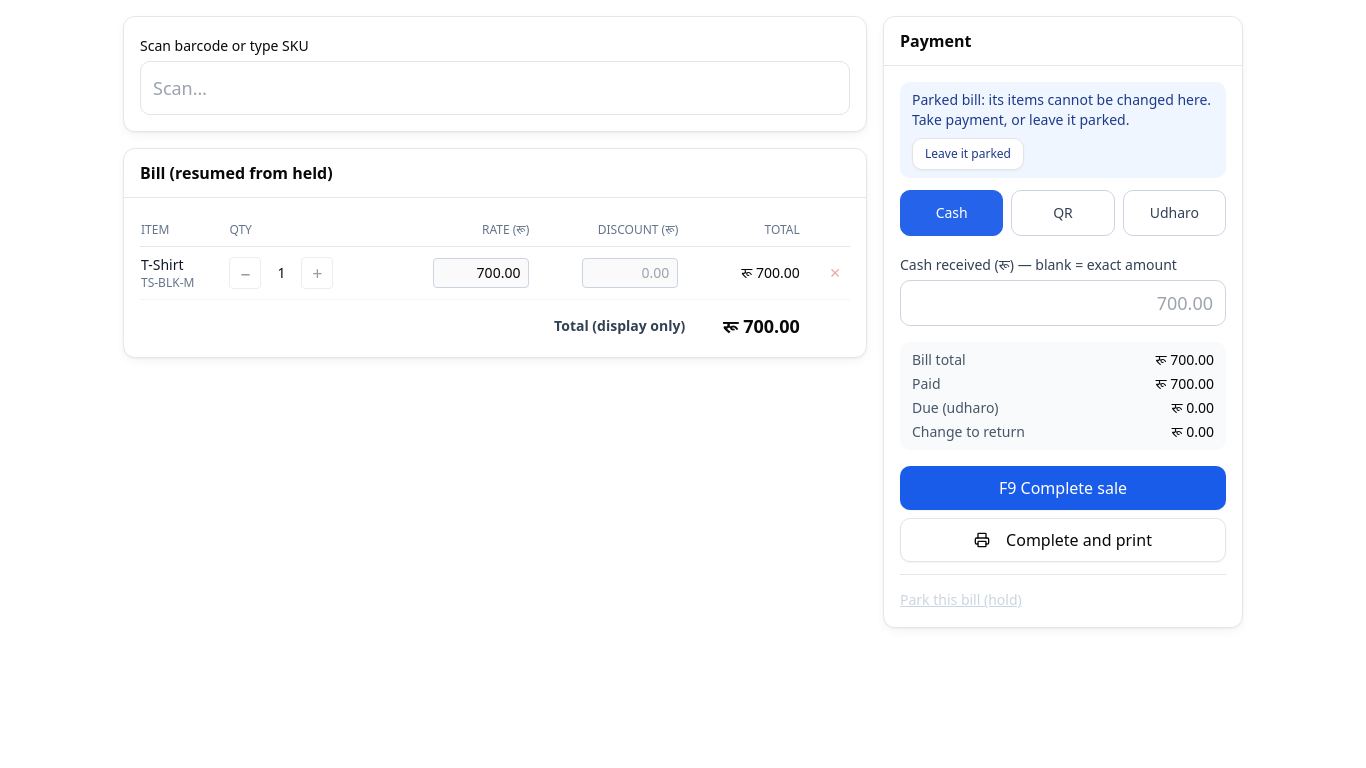
Test case: BillingPage counter payment › with a held bill open › can be put back without completing it
Click the button "Leave it parked": (968, 154) [912,138,1024,170]
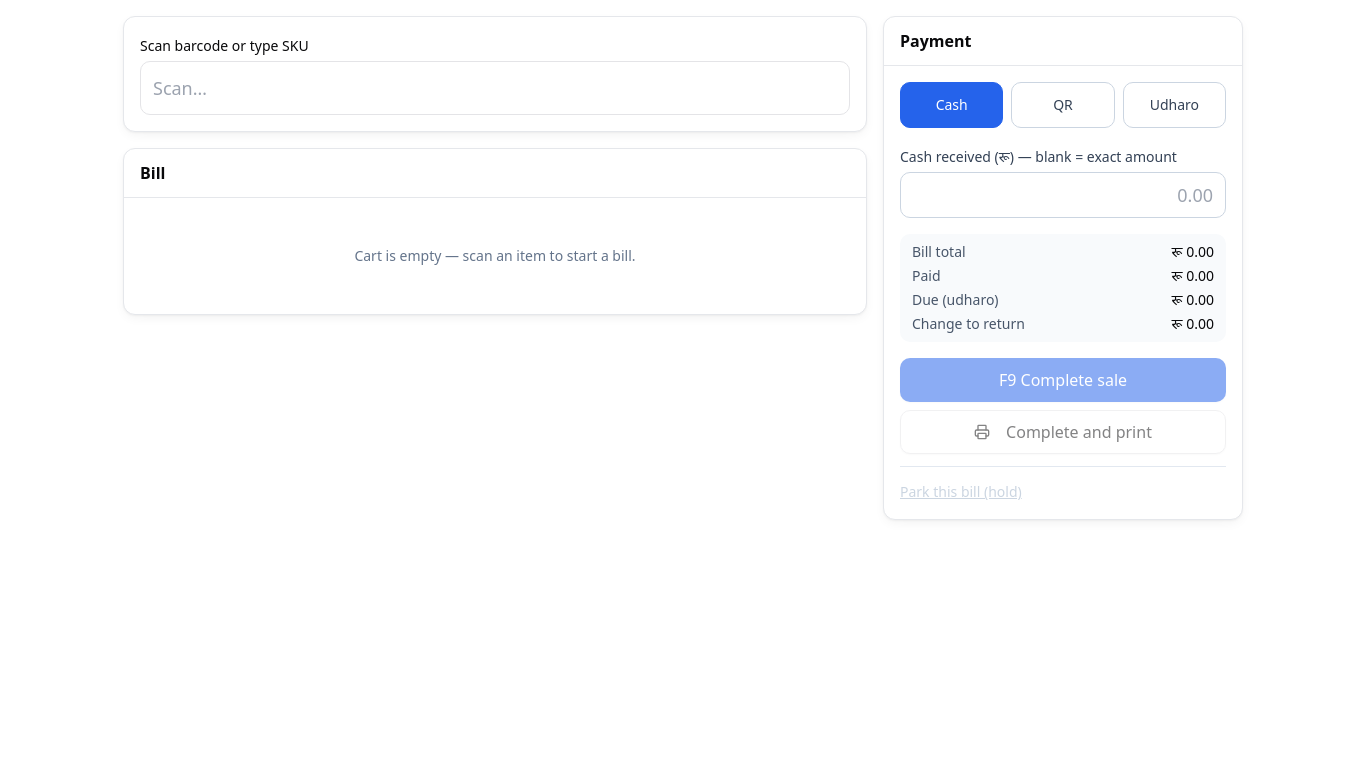
Result: the text "Cart is empty — scan an item to start a bill." is shown at [354,246,636,265]
